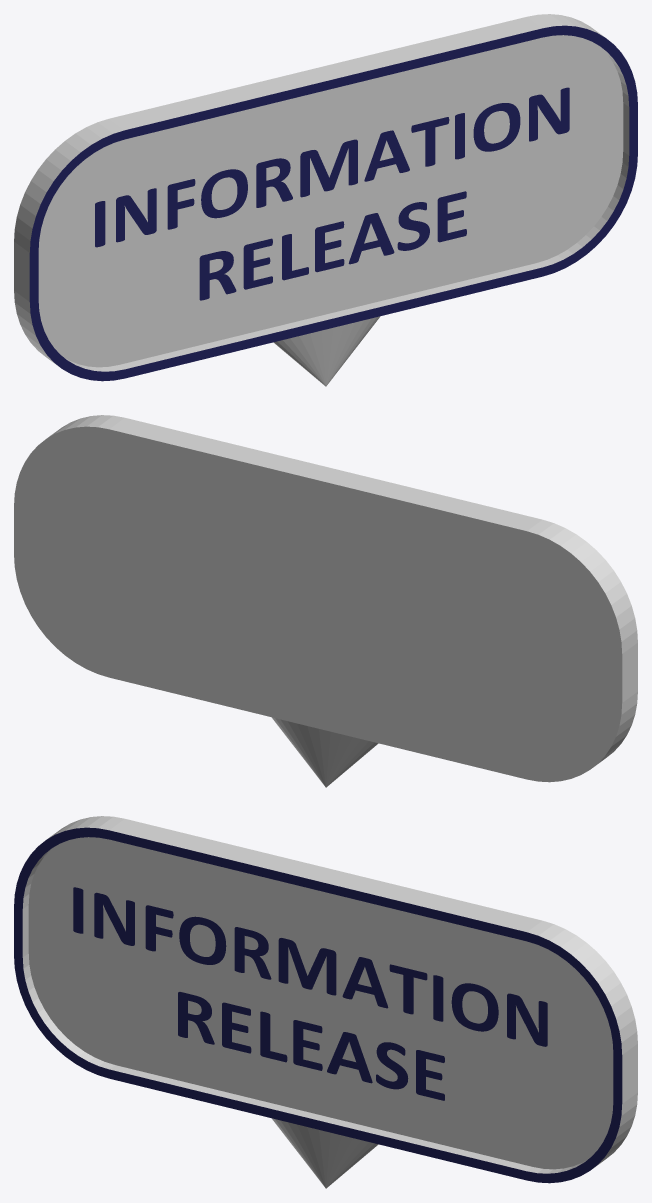
The model's file is informationReleaseDefault.glb.
3 renders of one model, top to bottom at view 1: azimuth 30°, elevation 25°; view 2: azimuth 150°, elevation 25°; view 3: azimuth 330°, elevation 25°, orthographic.
Visible parts, largest first — view 1: 立方体, 文本, 立方体.001, 立方体.002, 立方体.004; view 2: 立方体, 立方体.003, 立方体.002, 立方体.004; view 3: 立方体, 文本, 立方体.001, 立方体.002, 立方体.004.
Boxes of the visible parts, x1,y1,x2,y2 form: 立方体: [38, 35, 629, 371]; 文本: [95, 87, 569, 300]; 立方体.001: [29, 25, 637, 381]; 立方体.002: [14, 14, 603, 366]; 立方体.004: [273, 316, 380, 386]; 立方体: [21, 434, 614, 774]; 立方体.003: [14, 426, 622, 782]; 立方体.002: [48, 415, 637, 767]; 立方体.004: [271, 717, 378, 787]; 立方体: [22, 837, 613, 1173]; 文本: [73, 887, 547, 1100]; 立方体.001: [14, 827, 622, 1183]; 立方体.002: [48, 816, 637, 1168]; 立方体.004: [271, 1118, 378, 1188].
Bounding box in the file's own units: 5.13 × 2.52 × 0.2745.
